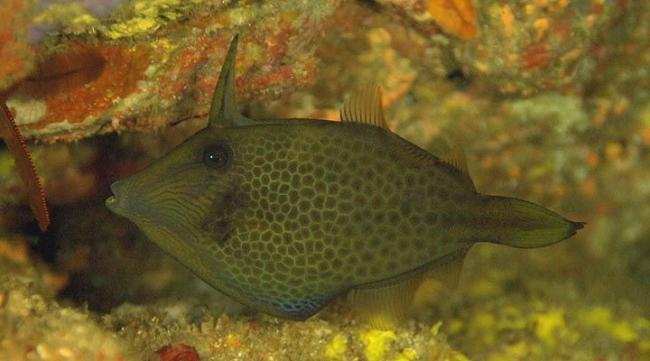fish: (105, 36, 587, 324)
